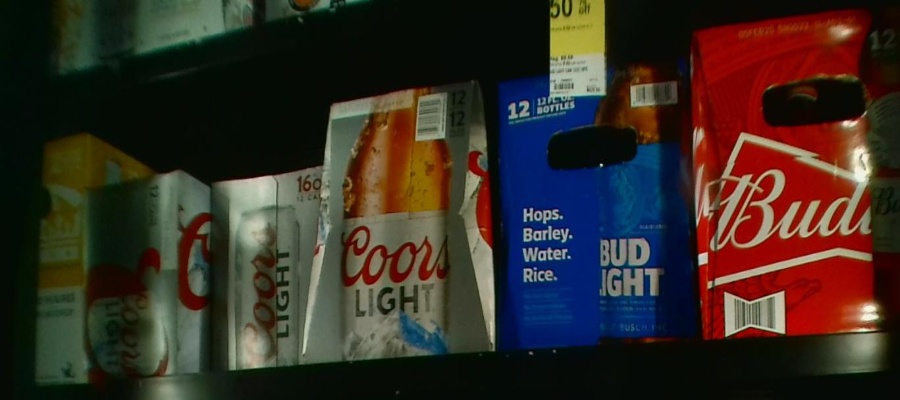bottle: (693, 22, 900, 334), (500, 68, 693, 351), (332, 93, 489, 352), (89, 174, 207, 373), (211, 171, 322, 363), (40, 132, 89, 380)
